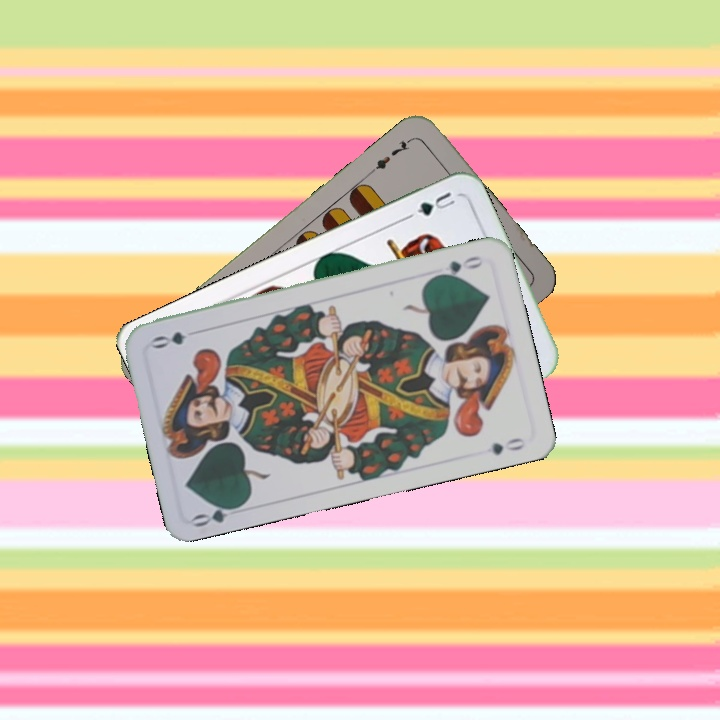E7: (366, 134, 415, 175)
GO: (189, 499, 246, 530), (430, 252, 487, 280)
GU: (412, 187, 458, 219)
